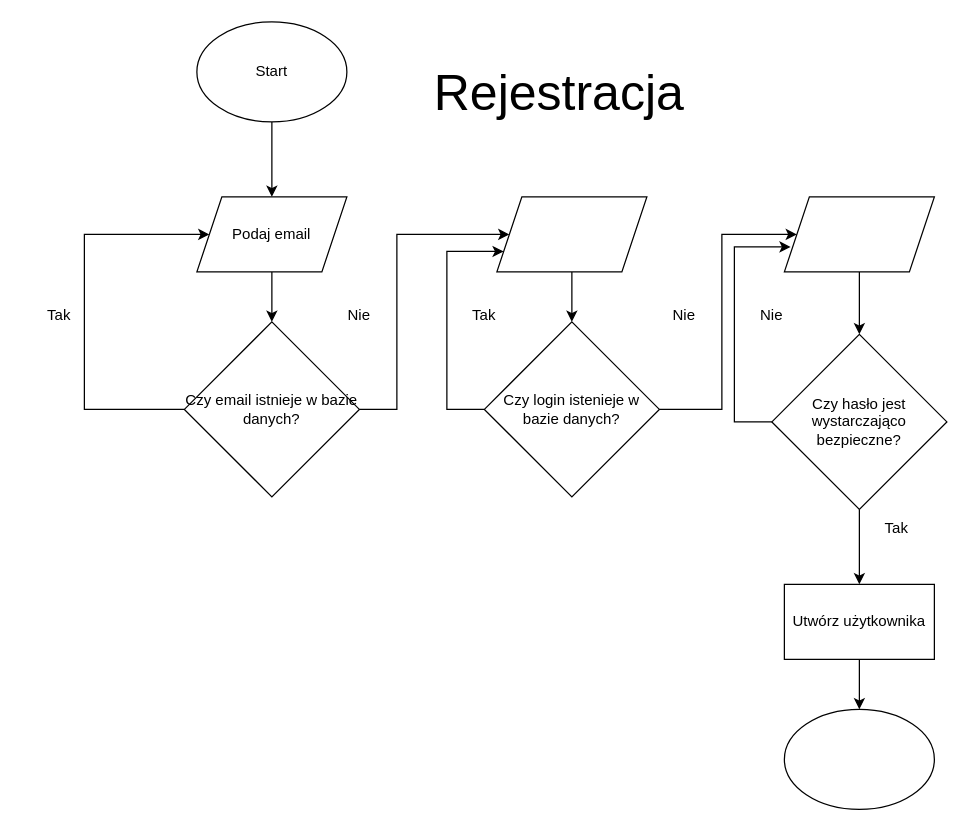
The diagram is 969 pixels wide and 831 high, and some of its shapes have lost their labels. The shapes that lost their labels are listed below. From the top down, each one's centre as x and y in pixels, then its label:
At point 571,234: "Podaj login".
At point 858,234: "Podaj hasło".
At point 858,758: "Koniec".
